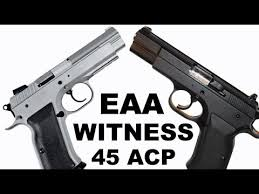gun: (130, 26, 256, 168), (7, 27, 126, 166)
